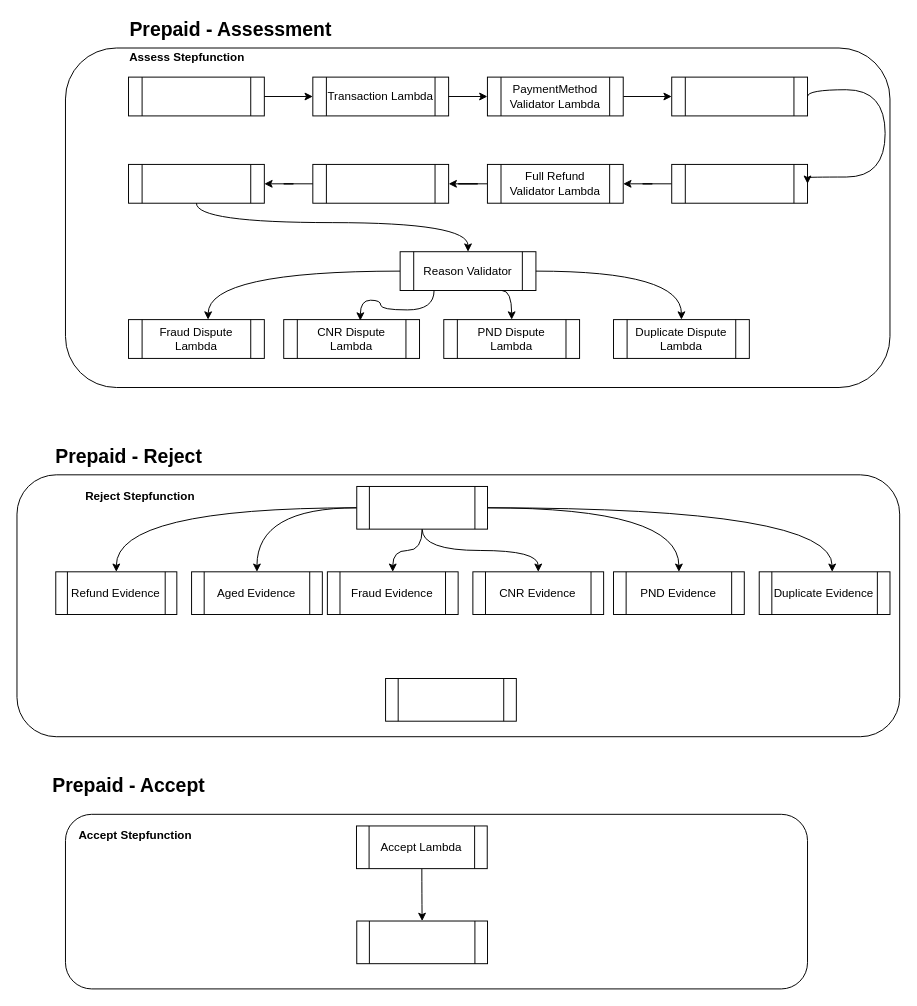
Some shapes in this 917 by 1006 pixel diagram are drawn without their labels. Each missing label, with the centre of its shape:
"Accept Dispute Update Lambda" belongs at point (422, 942).
"Aged Dispute Validator Lambda" belongs at point (380, 183).
"Duplicate Validator Lambda" belongs at point (739, 183).
"EvidenceType" belongs at point (422, 507).
"Finalize Evidence" belongs at point (450, 699).
"Partial/Full Validator Lambda" belongs at point (739, 96).
"Search lambda" belongs at point (196, 96).
"Usage Lambda" belongs at point (196, 183).
